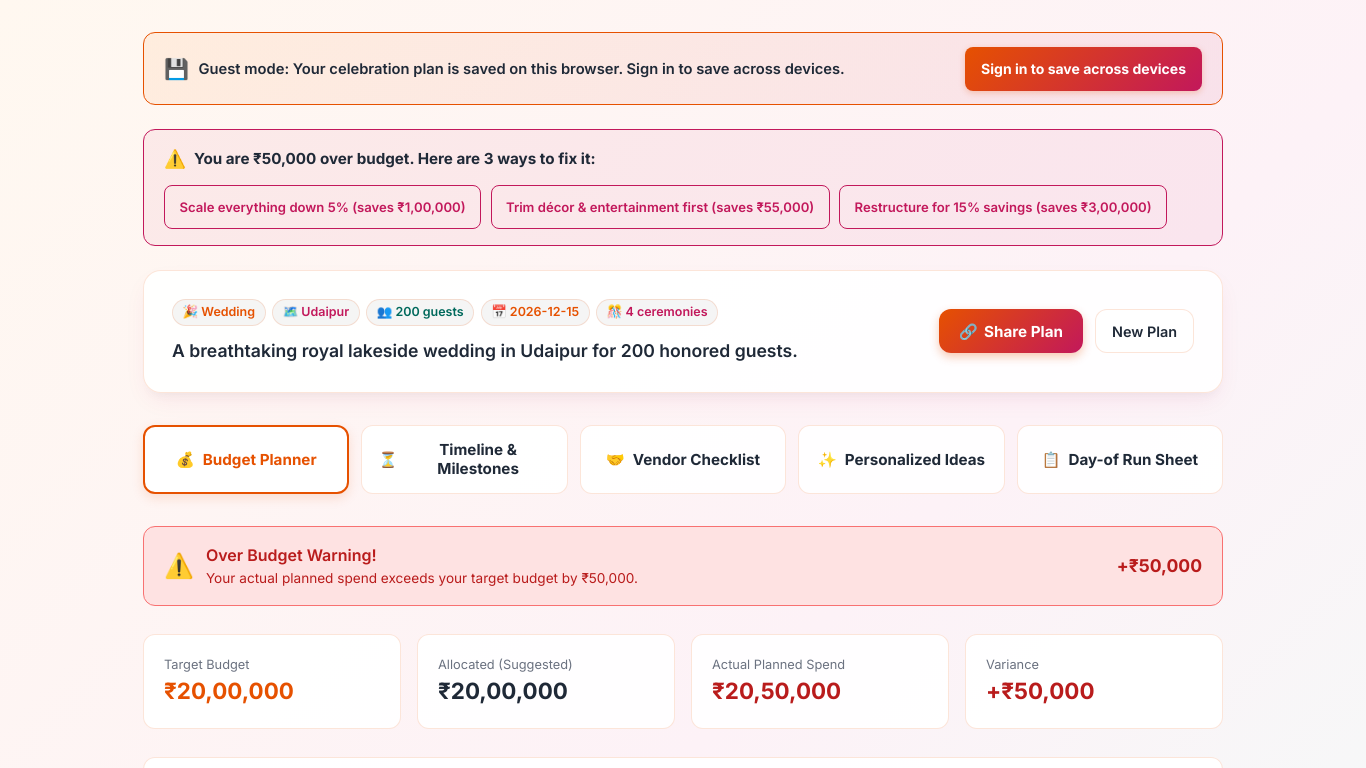
it: Dashboard Component & Accessibility (vitest-axe) › switches to TimelineTab and checks zero axe accessibility violations
The width and height of the screenshot is (1366, 768).
Step 1. Click the tab "⏳ Timeline & Milestones" → (465, 460), box [361, 425, 568, 494]
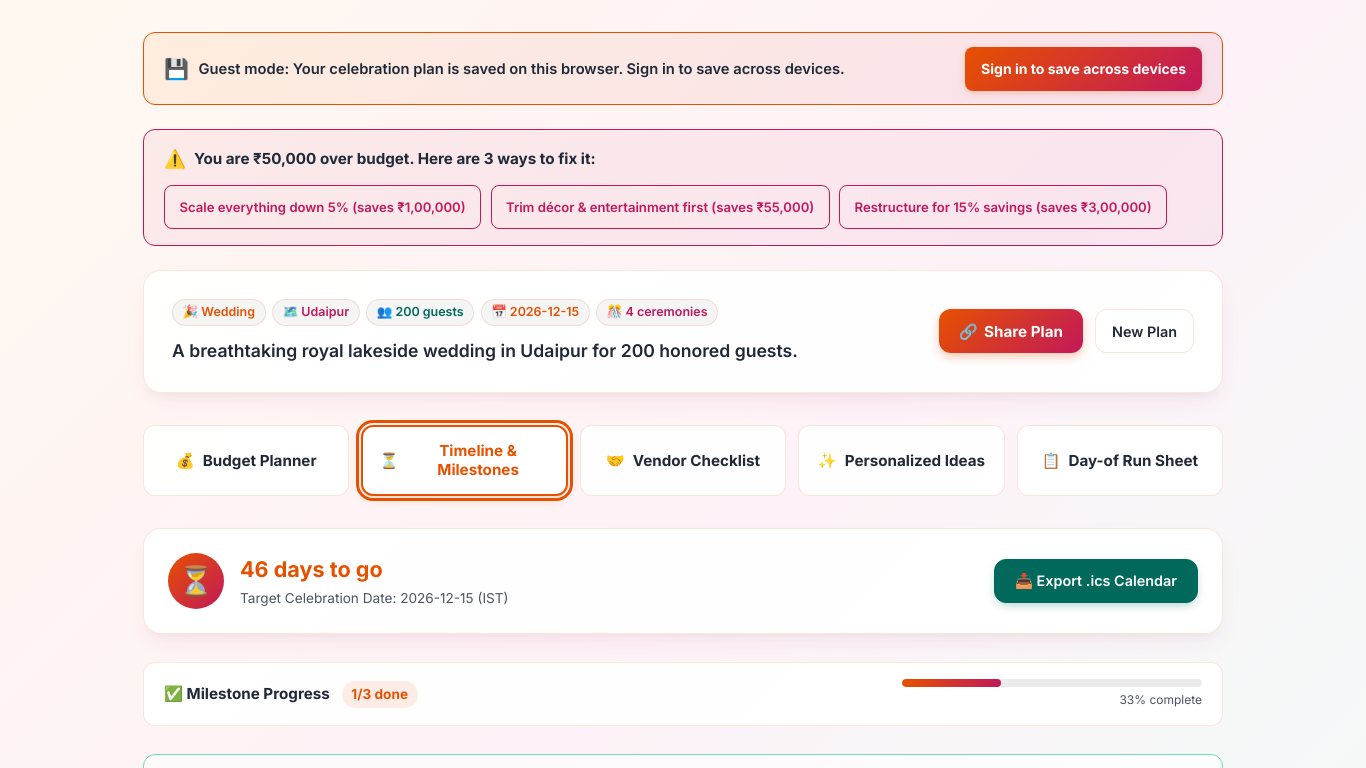
Now the button "📥 Export .ics Calendar" is shown, box [994, 559, 1198, 603]
